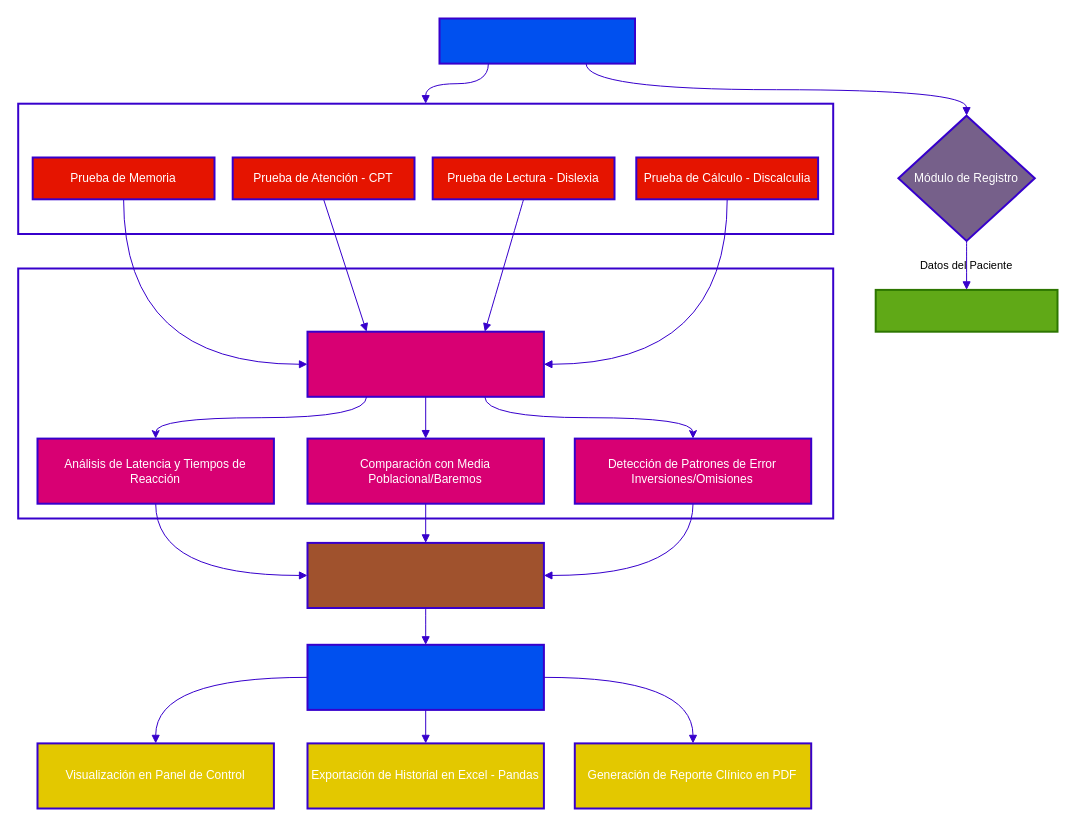
This 1076x826 diagram has some shape labels left out. The shapes that lost their labels are listed below. From the top down, each one's centre as x and y in pixels, then its label:
At pixel 537 40: "Interfaz Gráfica - GUI".
At pixel 966 310: "Base de Datos de Baremos".
At pixel 425 363: "Algoritmo de Procesamiento Central".
At pixel 425 574: "Generador de Recomendaciones Pedagógicas".
At pixel 425 676: "Motor de Diagnóstico Descriptivo".
